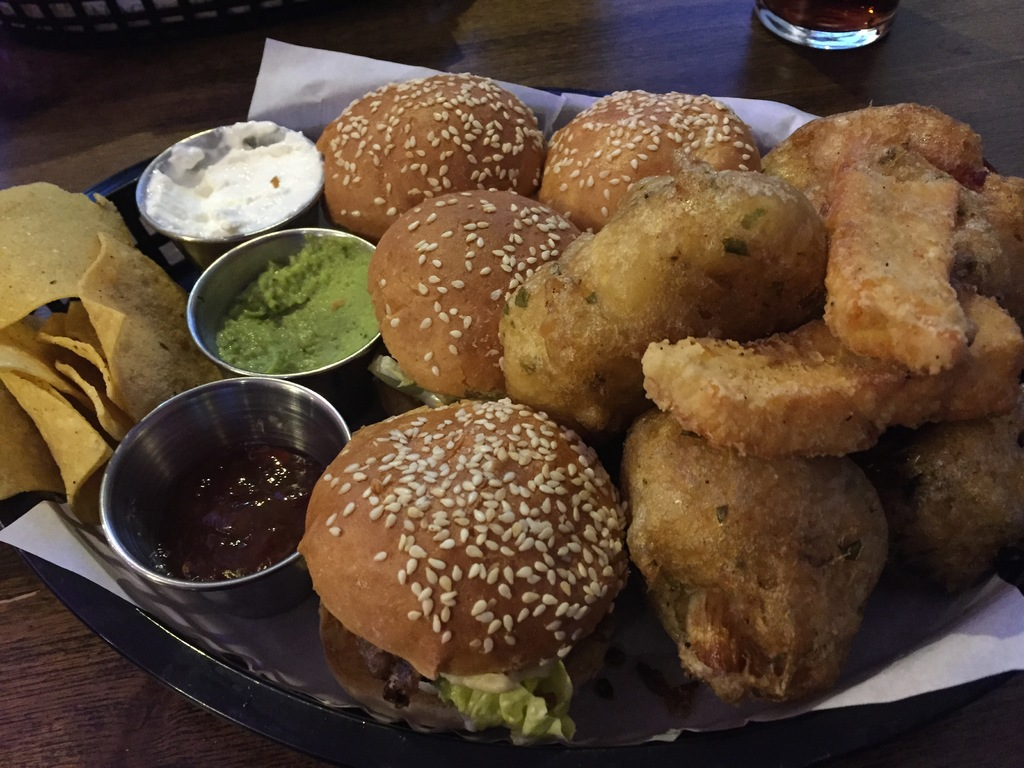Hamburger: (300, 399, 634, 751), (371, 184, 579, 406), (311, 71, 544, 242), (540, 86, 765, 232)
